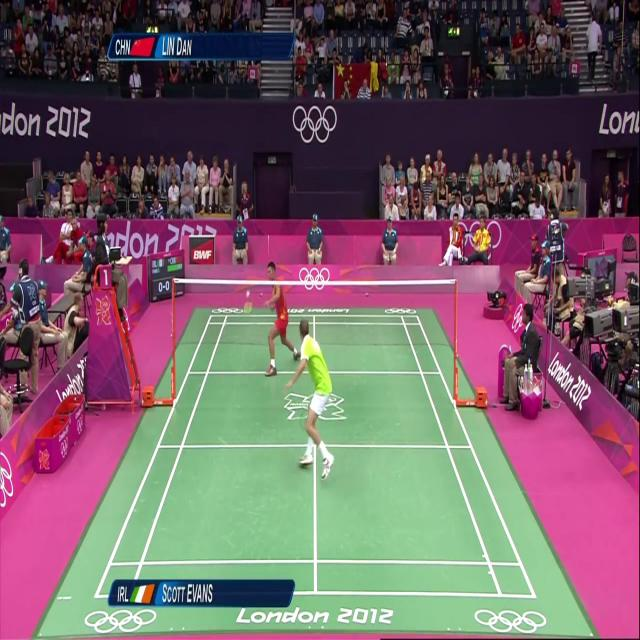Net: (172, 278, 461, 347)
Player1: (276, 311, 350, 487)
Player2: (260, 248, 302, 380)
Shuttlecock: (243, 286, 252, 300)
